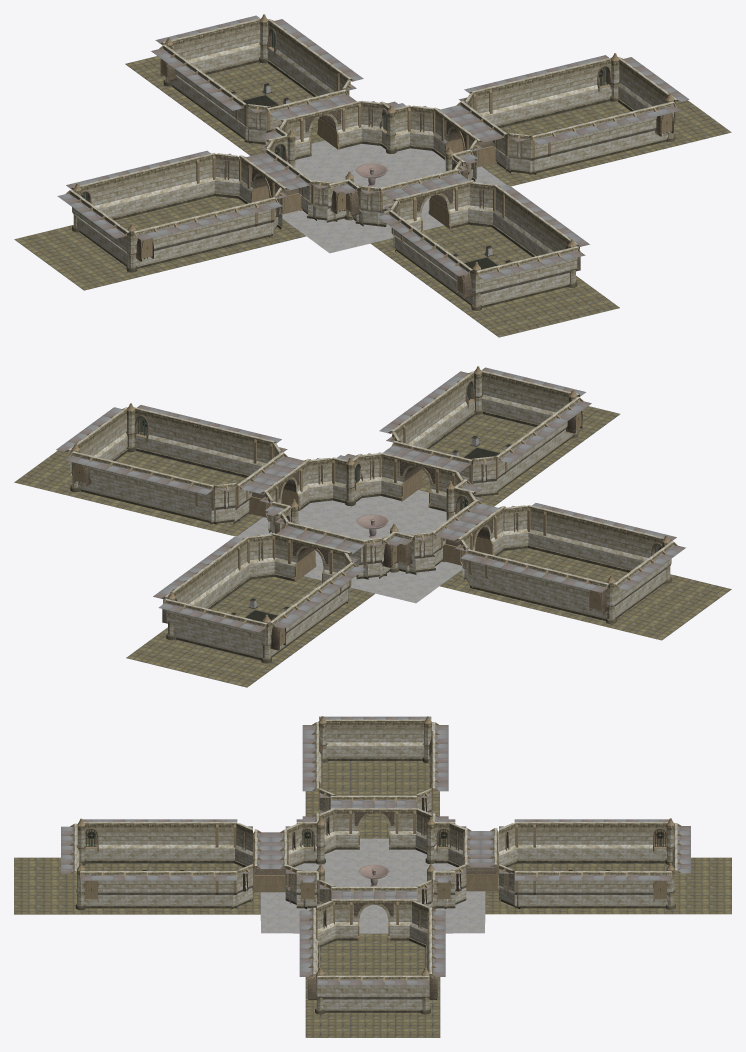
File: level-dungeon.gltf
3 renders of one model, top to bottom at view 1: azimuth 30°, elevation 25°; view 2: azimuth 150°, elevation 25°; view 3: azimuth 270°, elevation 25°, orthographic. The views are drawn at different scales.
Visible parts, largest first — view 1: ground-tile-2-1.004, castle-wall.011, castle-wall.001, castle-wall.010, castle-wall.002, castle-wall.009, castle-wall.006, castle-wall.004, castle-wall.008, castle-wall.003, castle-wall.005, castle-wall.012 (+32 smaller); view 2: ground-tile-2-1.004, castle-wall.010, castle-wall.002, castle-wall.011, castle-wall.001, castle-wall.006, castle-wall.009, castle-wall.008, castle-wall.004, castle-wall.007, castle-wall.003, castle-wall.012 (+32 smaller); view 3: ground-tile-2-1.004, castle-wall.007, castle-wall.005, castle-wall.003, castle-wall.008, castle-wall.004, castle-wall.012, caslte-wall-w-thing.003, caslte-wall-w-thing.014, castle-wall-gate-new.001, castle-wall-gate-new.002, castle-wall-gate-new.003 (+31 smaller).
Boxes of the visible parts, x1,y1,x2,y2 form: ground-tile-2-1.004: (14, 56, 731, 337); castle-wall.011: (484, 60, 595, 127); castle-wall.001: (86, 155, 197, 220); castle-wall.010: (550, 106, 660, 169); castle-wall.002: (151, 202, 262, 265); castle-wall.009: (475, 246, 585, 307); castle-wall.006: (155, 15, 261, 79); castle-wall.004: (276, 27, 351, 96); castle-wall.008: (502, 193, 577, 256); castle-wall.003: (57, 189, 132, 267); castle-wall.005: (163, 53, 238, 134); castle-wall.012: (618, 57, 689, 124); ground-tile-2-1.004: (14, 406, 731, 687); castle-wall.010: (150, 410, 261, 477); castle-wall.002: (545, 507, 656, 572); castle-wall.011: (85, 456, 196, 519); castle-wall.001: (480, 554, 591, 617); castle-wall.006: (158, 598, 268, 659); castle-wall.009: (481, 367, 585, 431); castle-wall.008: (391, 379, 466, 448); castle-wall.004: (164, 545, 240, 608); castle-wall.007: (504, 405, 579, 486); castle-wall.003: (612, 541, 685, 618); castle-wall.012: (56, 407, 127, 486); ground-tile-2-1.004: (14, 761, 731, 1037); castle-wall.007: (102, 819, 214, 863); castle-wall.005: (537, 819, 648, 863); castle-wall.003: (319, 716, 431, 760); castle-wall.008: (102, 871, 214, 908); castle-wall.004: (537, 871, 648, 908); castle-wall.012: (317, 975, 429, 1012); caslte-wall-w-thing.003: (330, 795, 416, 849); caslte-wall-w-thing.014: (331, 886, 417, 940); castle-wall-gate-new.001: (352, 795, 396, 849); castle-wall-gate-new.002: (351, 886, 396, 940); castle-wall-gate-new.003: (462, 837, 498, 891).
Bounding box in the file's own units: 64.05 × 4.57 × 64.03.
11 materials, 11 textured.
